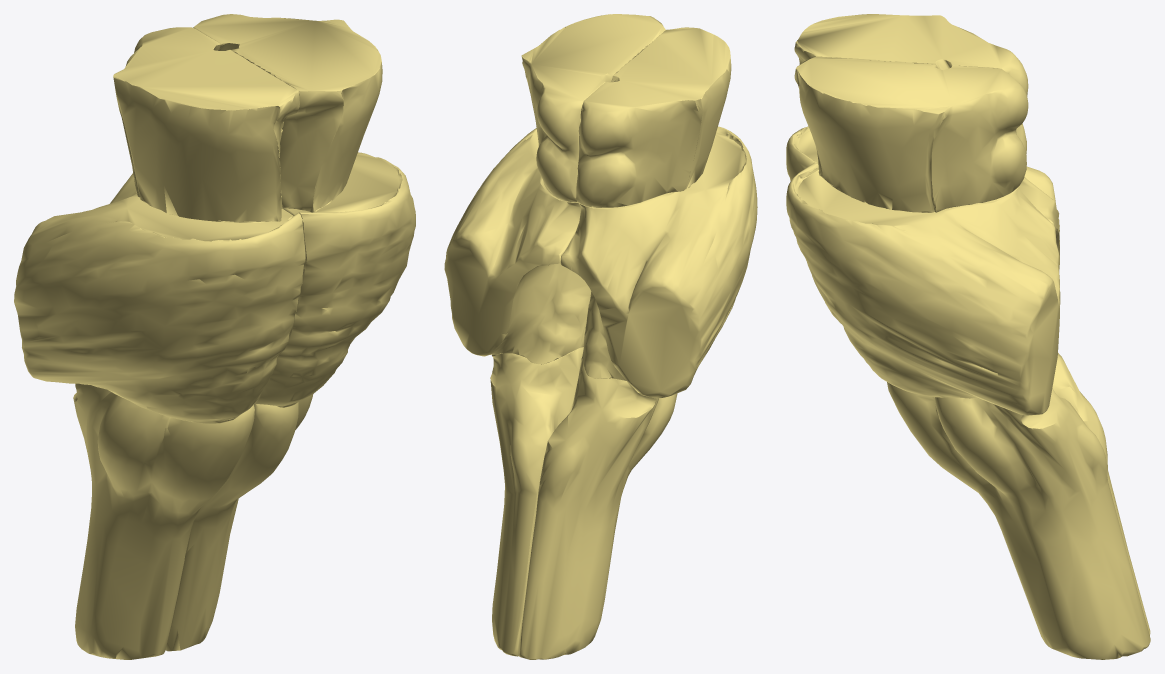
File: tronco-encefalico.glb
The picture shows the model from 3 angles, left to right: view 1: azimuth 30°, elevation 25°; view 2: azimuth 150°, elevation 25°; view 3: azimuth 270°, elevation 25°; orthographic projection. The views are drawn at different scales.
Parts seen in each view (by area): view 1: tronco-encefalico; view 2: tronco-encefalico; view 3: tronco-encefalico.
Part boxes in pixels (left/top/right/bottom): tronco-encefalico: left=14, top=14, right=415, bottom=659; tronco-encefalico: left=444, top=14, right=757, bottom=659; tronco-encefalico: left=786, top=14, right=1150, bottom=659.
Bounding box in the file's own units: 0.0422 × 0.081 × 0.0457.
